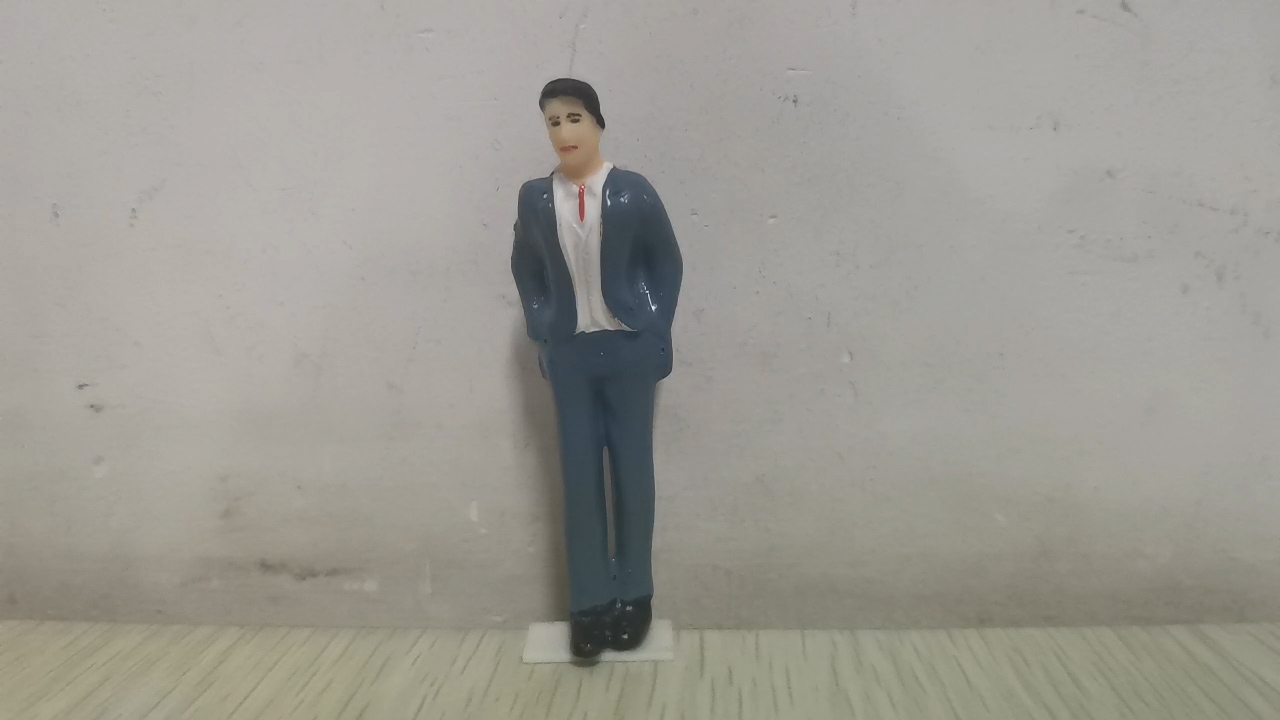person: (509, 77, 685, 660)
